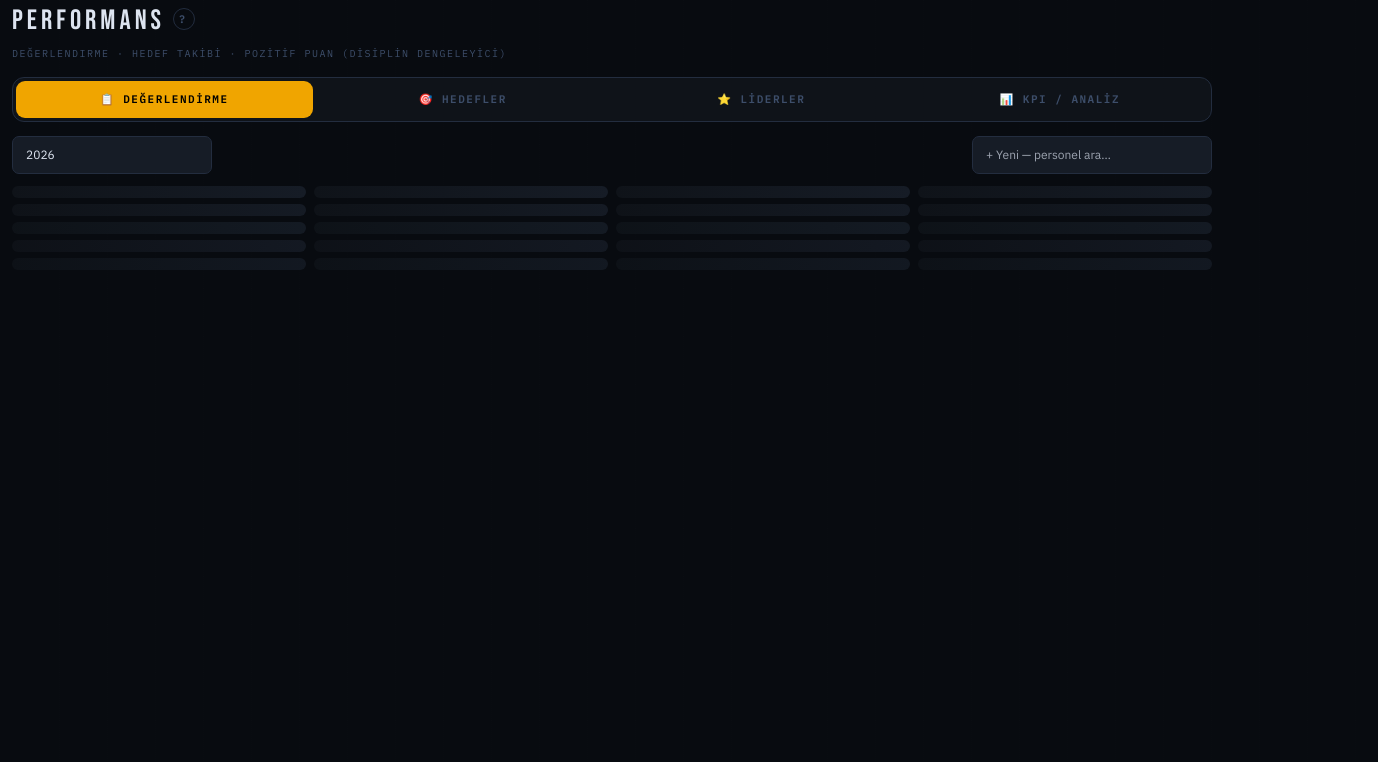
Scenario: performance/KpiTab smoke › dönemsel trend ve boyut kırılımını gösterir
The image size is (1378, 762).
Click the button "📊 KPI / ANALİZ": [1060, 99] box [912,81,1208,118]
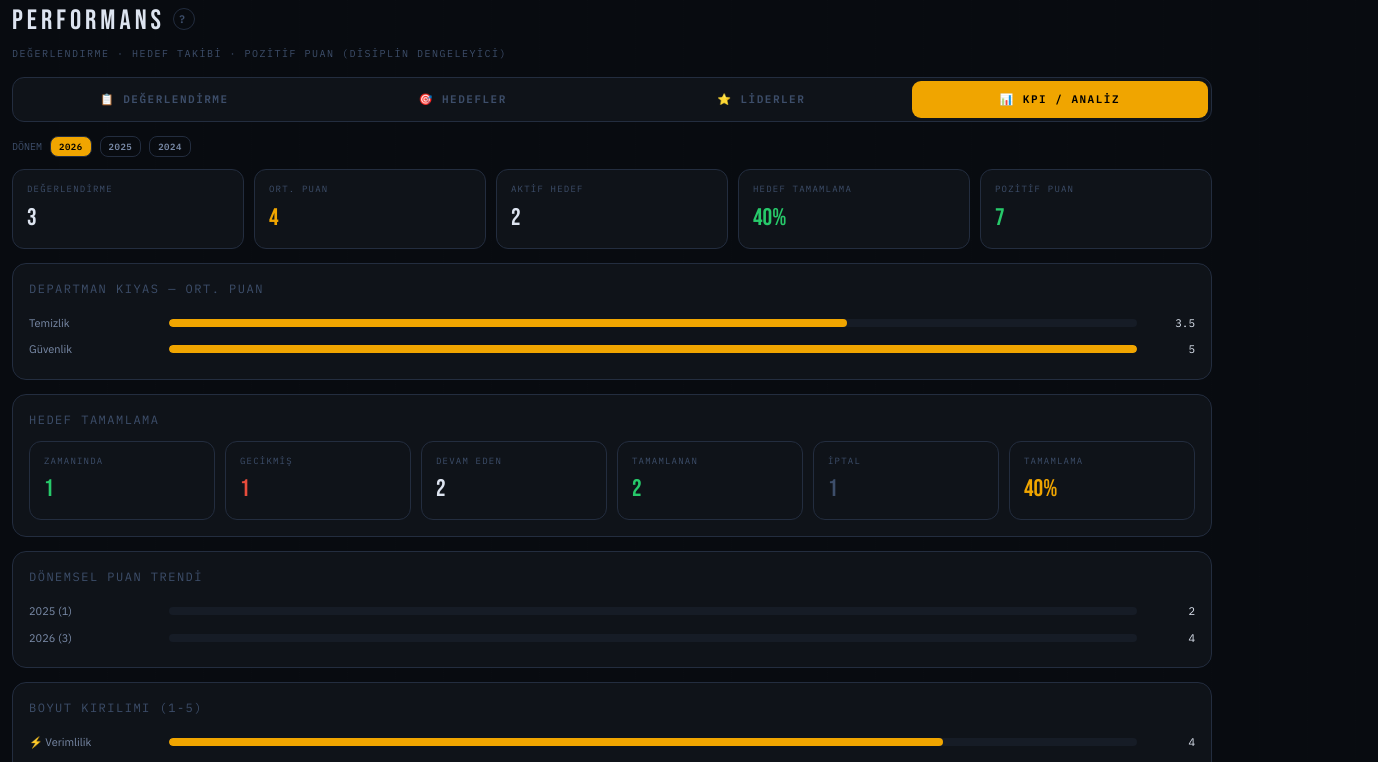
expect the heading "DÖNEMSEL PUAN TRENDİ" is shown: met, box [29,569,203,584]
expect the heading "BOYUT KIRILIMI (1-5)" is shown: met, box [29,700,203,715]
expect the text "2026 (3)" is shown: met, box [29,630,72,644]
